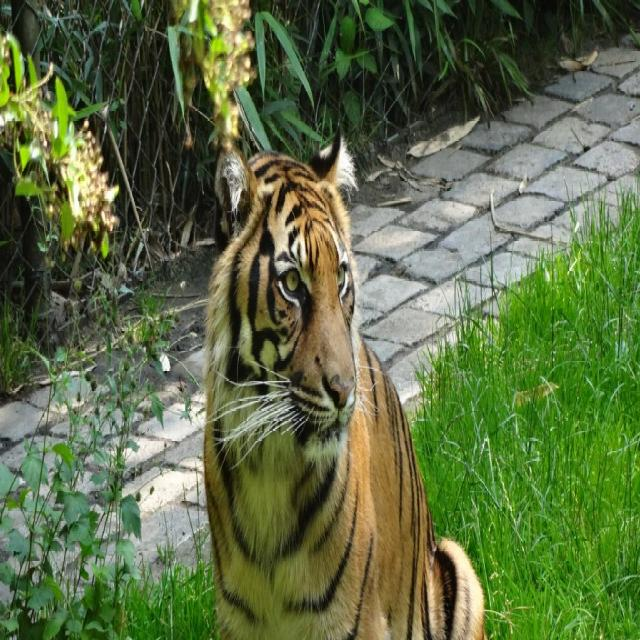Tiger: (202, 129, 485, 639)
